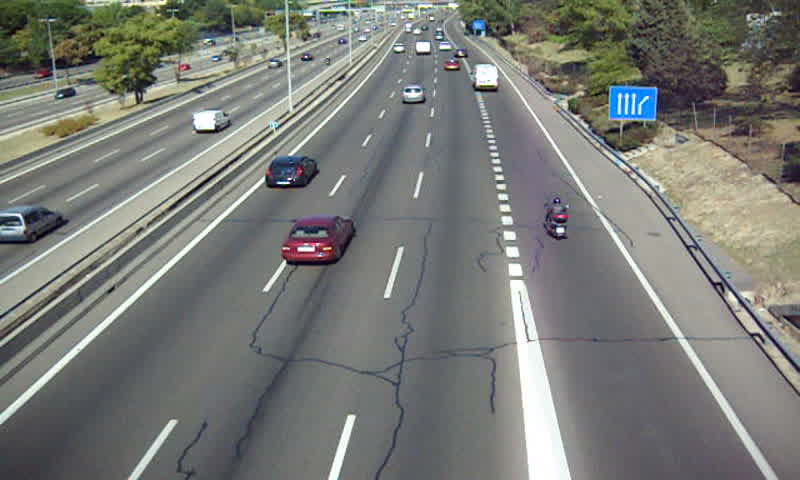car: (283, 217, 354, 263), (264, 155, 317, 188), (400, 84, 424, 104), (441, 59, 461, 74), (438, 40, 453, 52), (454, 48, 468, 58), (392, 43, 405, 53)
motorcycle: (543, 197, 570, 242)
van: (472, 63, 500, 91), (414, 41, 429, 55)
